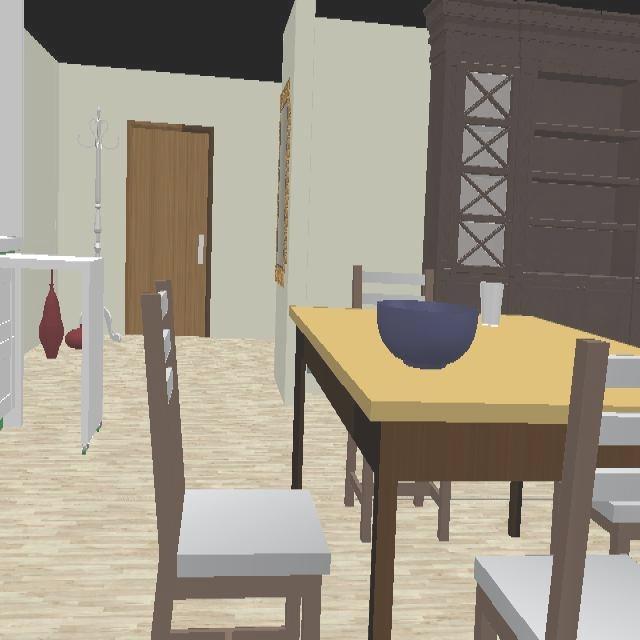bookshelf: (423, 0, 640, 344)
chair: (143, 289, 332, 640), (475, 340, 640, 640)
table: (288, 303, 640, 640), (0, 253, 102, 445)
